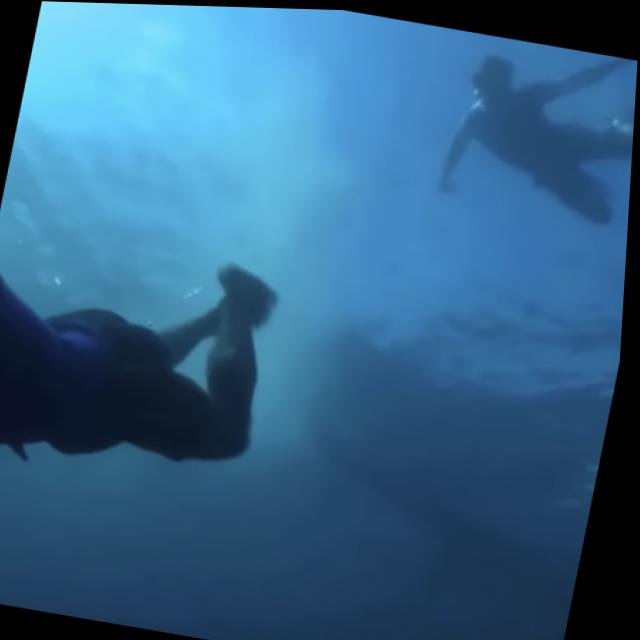human: (0, 92, 323, 595), (427, 27, 639, 239)
